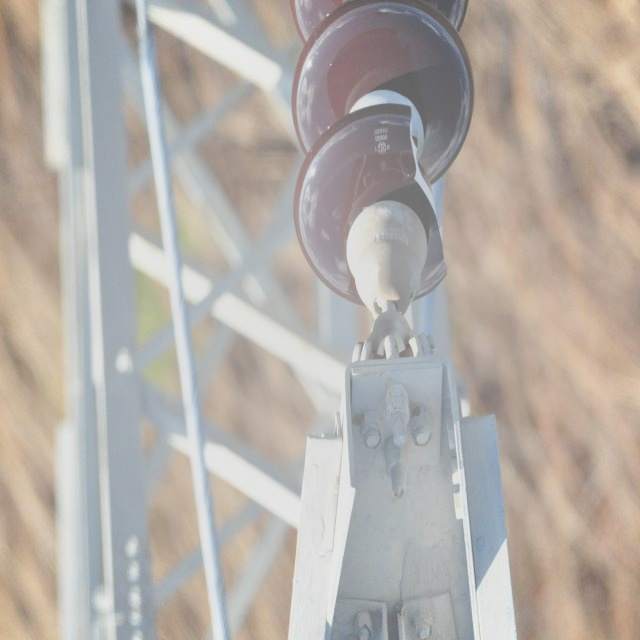broken: (407, 102, 450, 282)
insulator: (290, 0, 474, 307)
